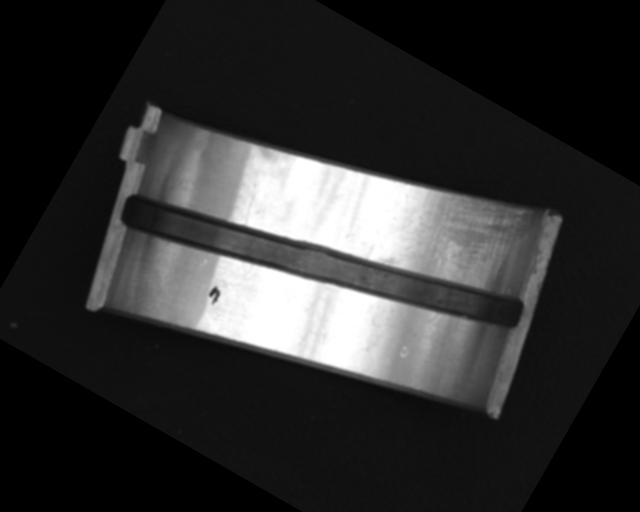blot: (202, 283, 225, 308)
bruise: (396, 343, 411, 359)
gap: (114, 107, 526, 418)
nick: (231, 182, 265, 227)
scratch: (374, 154, 540, 320)
